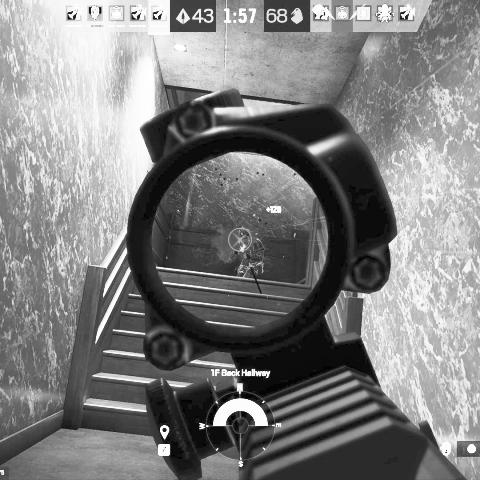Character: (228, 224, 269, 281)
Head: (237, 226, 253, 244)
